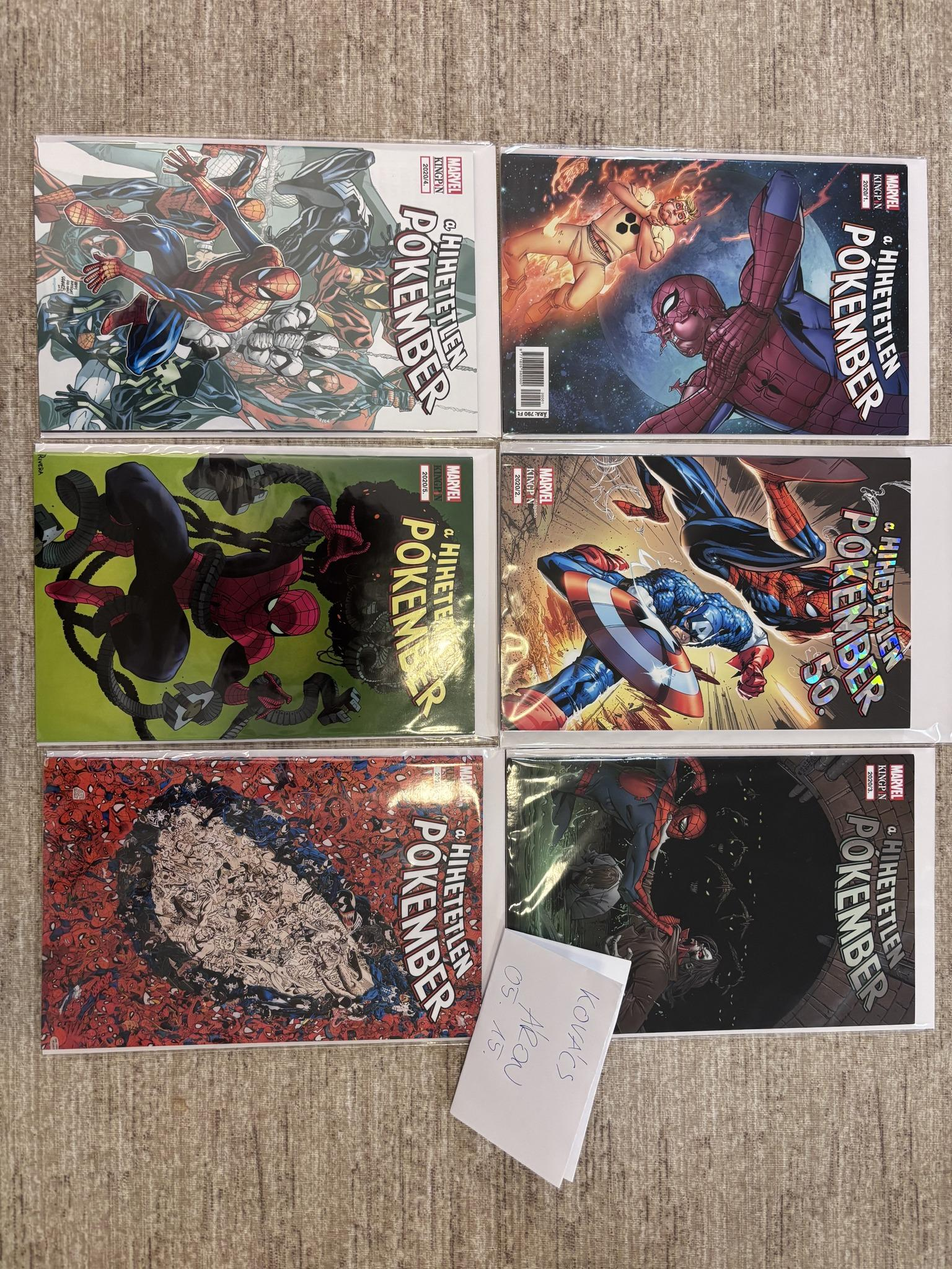comic: (34, 137, 498, 433), (42, 754, 482, 1050), (35, 447, 475, 742), (498, 148, 931, 438), (506, 752, 929, 1033), (500, 448, 913, 733)
